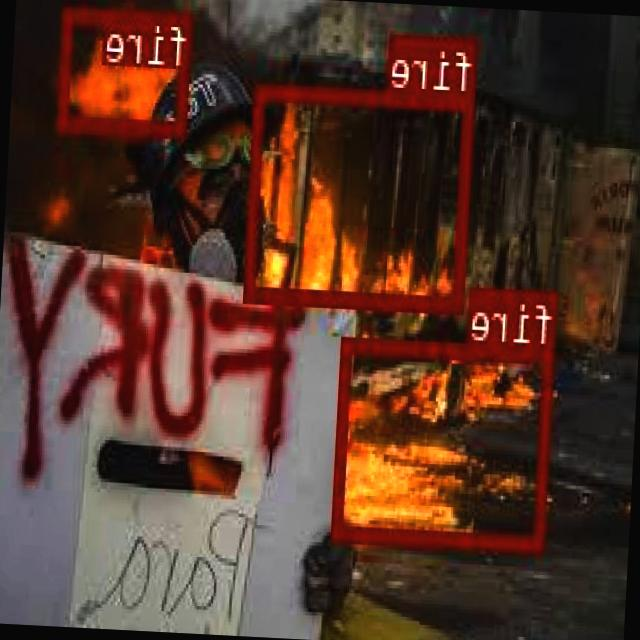fire: (247, 82, 477, 310), (336, 336, 556, 548), (61, 5, 194, 135)
